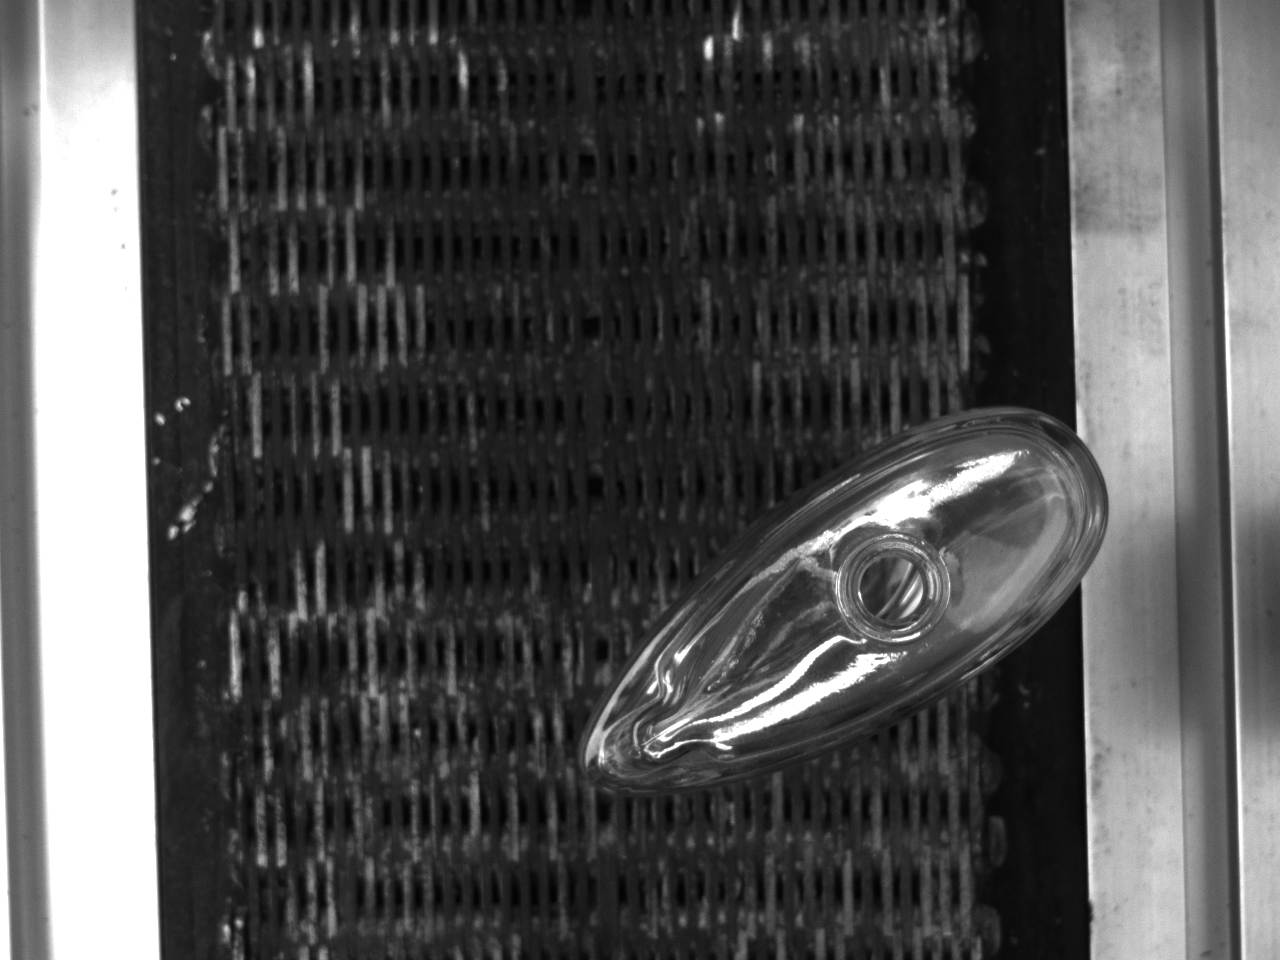bottleneck: (839, 534, 952, 639)
